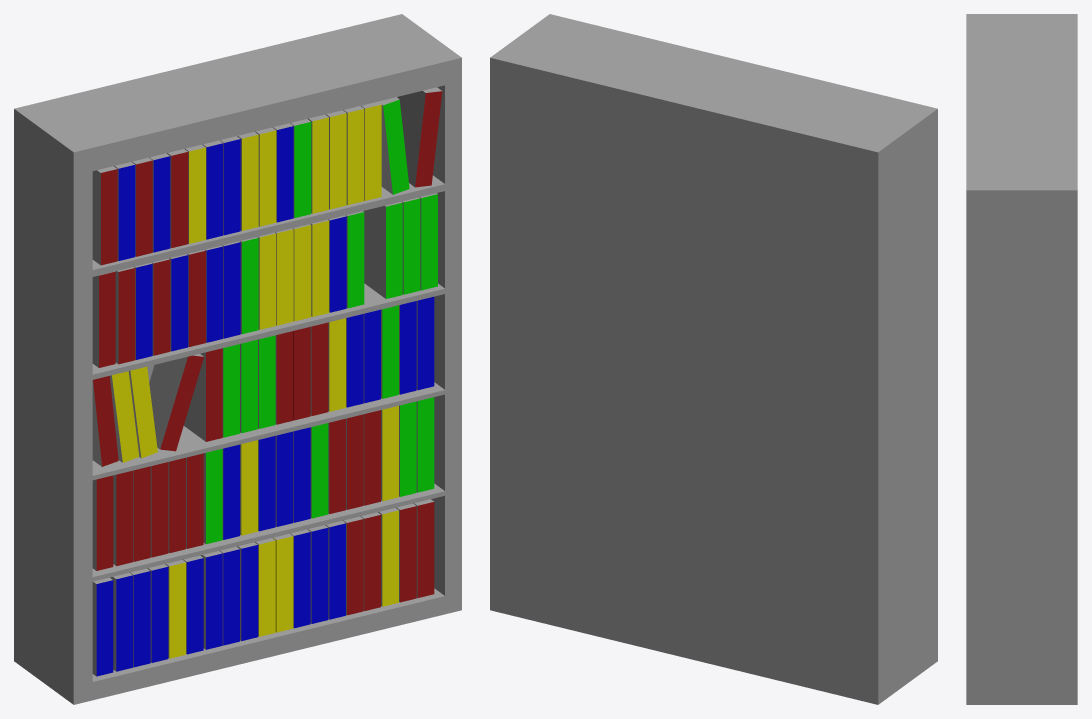
The model's file is Bookshelf_Wbooks.fbx.
3 views of the same model, side by side, from view 1: azimuth 30°, elevation 25°; view 2: azimuth 150°, elevation 25°; view 3: azimuth 270°, elevation 25° (orthographic). The views are drawn at different scales.
Parts seen in each view (by area): view 1: Books, Bookshelf1; view 2: Bookshelf1; view 3: Bookshelf1.
Part boxes in pixels (bbox=[...]): Books: bbox=[92, 87, 442, 676]; Bookshelf1: bbox=[14, 14, 461, 704]; Bookshelf1: bbox=[490, 14, 937, 704]; Bookshelf1: bbox=[966, 14, 1077, 704].
Size of the model in its own units: 145 by 197 by 38.63.
